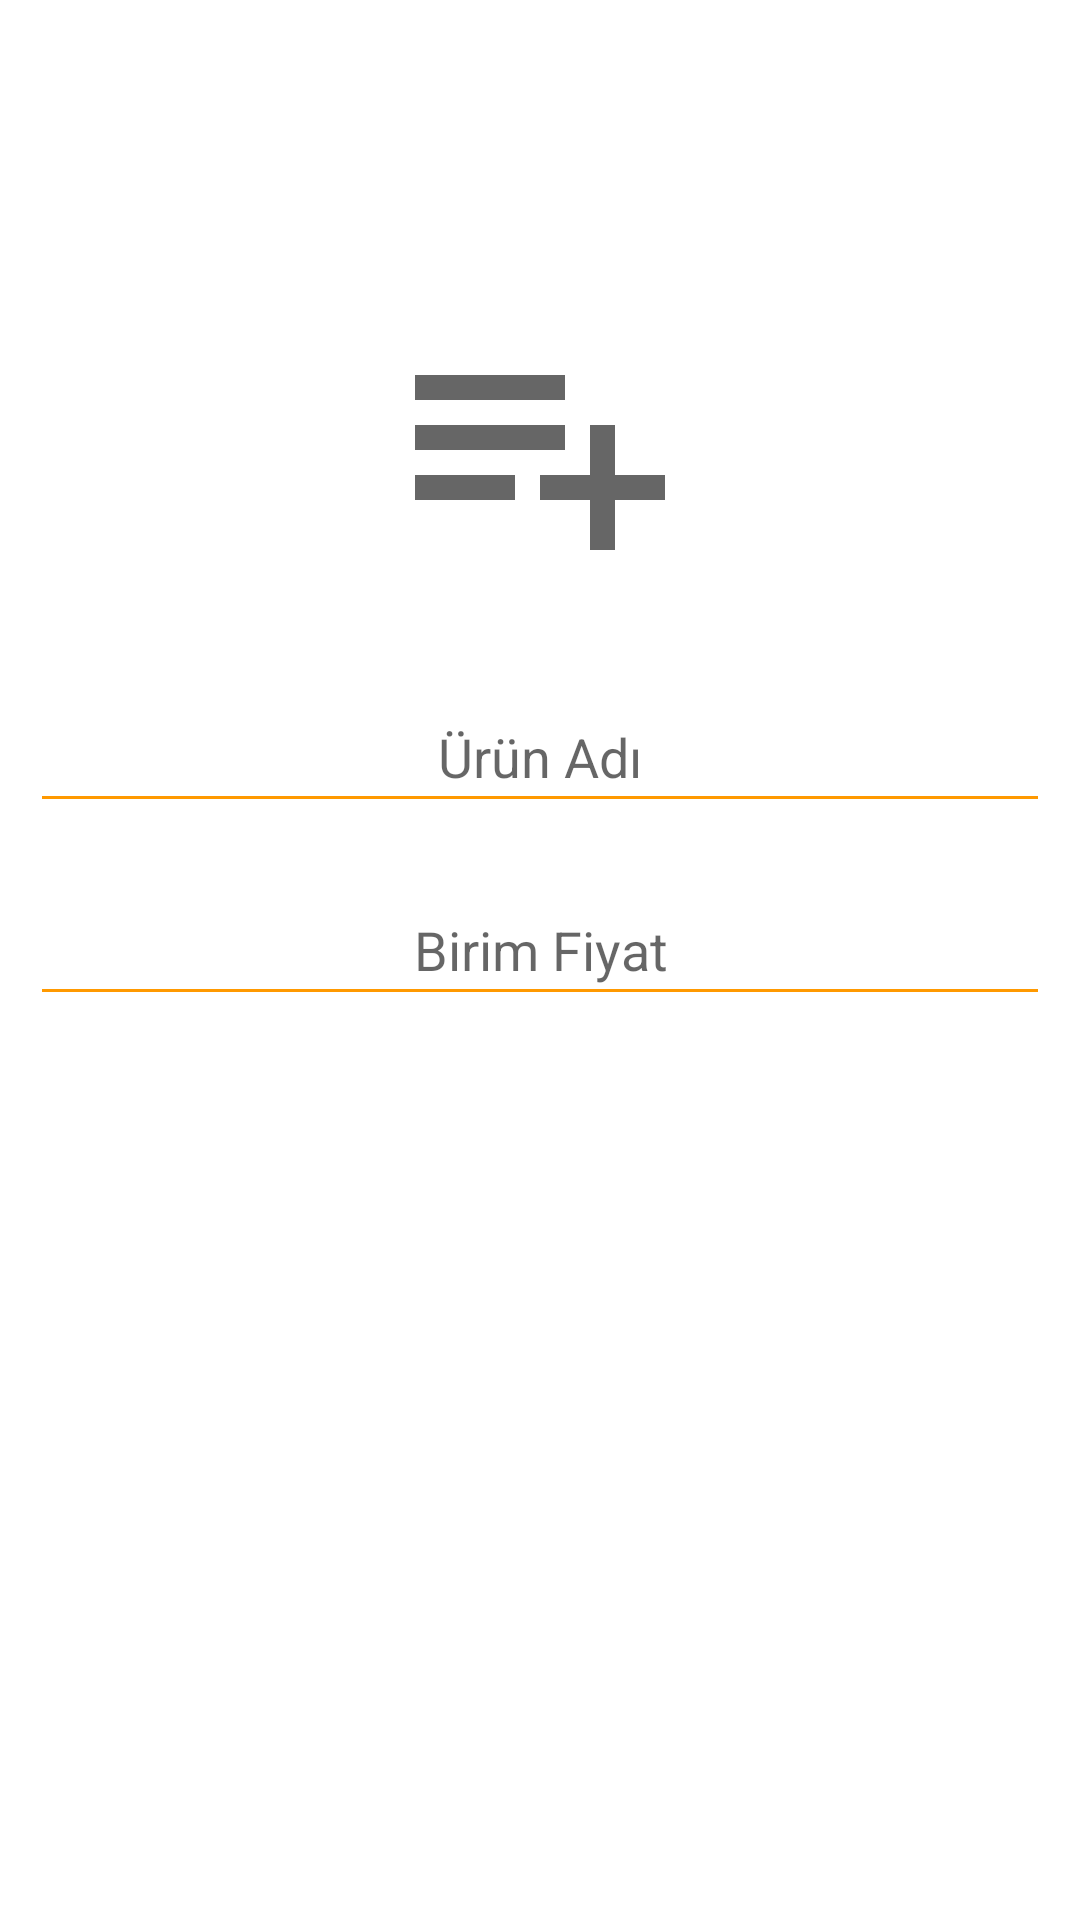

Named icons in this screenshot (1080×1920) and their centers, (x,y):
urun ekle: (540,462)
